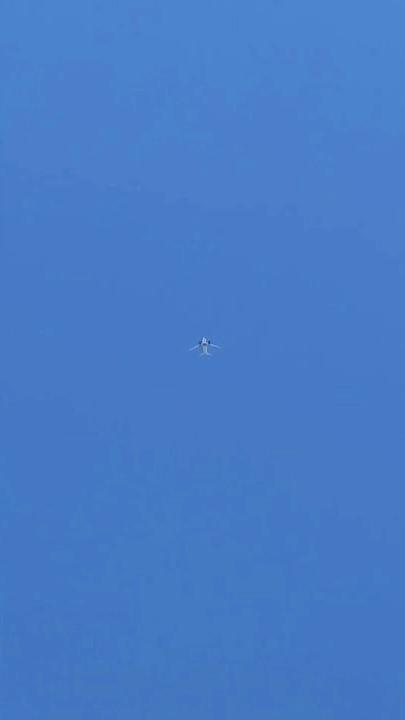Plane: (179, 324, 225, 370)
